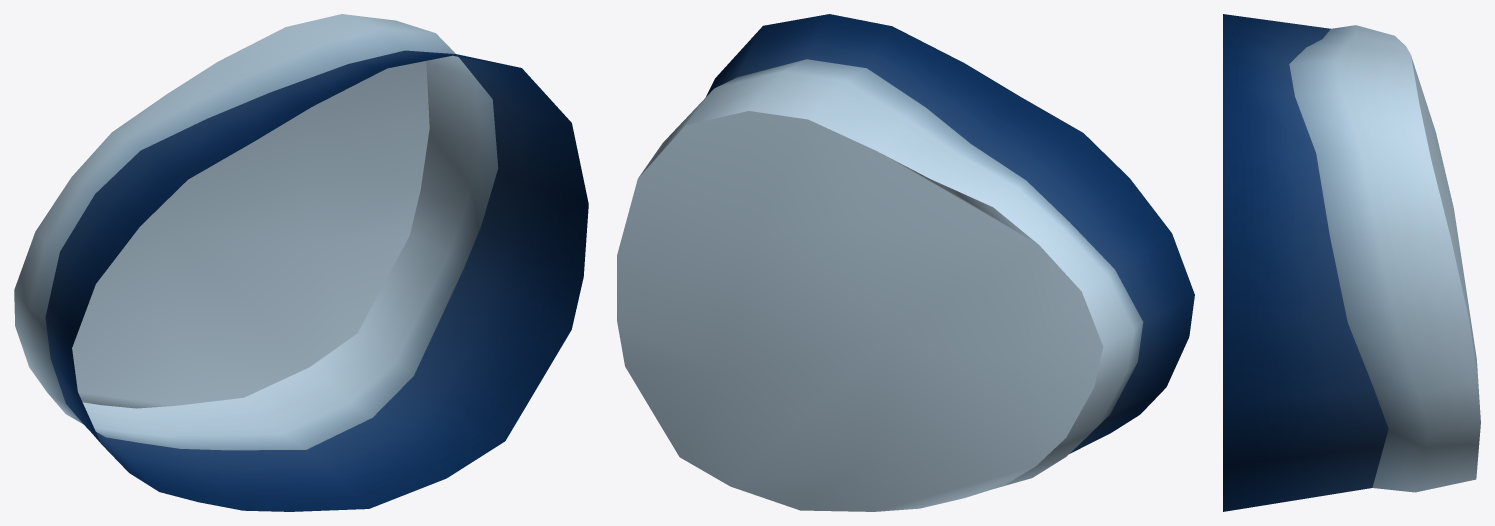
The model's file is Snow Rock 02.FBX.
3 renders of one model, left to right at view 1: azimuth 30°, elevation 25°; view 2: azimuth 150°, elevation 25°; view 3: azimuth 270°, elevation 25°, orthographic. The views are drawn at different scales.
Parts seen in each view (by area): view 1: Snow Rock 02; view 2: Snow Rock 02; view 3: Snow Rock 02.
Boxes of the visible parts, x1=… form: Snow Rock 02: x1=14, y1=14, x2=588, y2=511; Snow Rock 02: x1=617, y1=14, x2=1194, y2=511; Snow Rock 02: x1=1223, y1=14, x2=1480, y2=511.
Bounding box in the file's own units: 732 × 591 × 314.
Materials: 1 (1 with a texture image).
